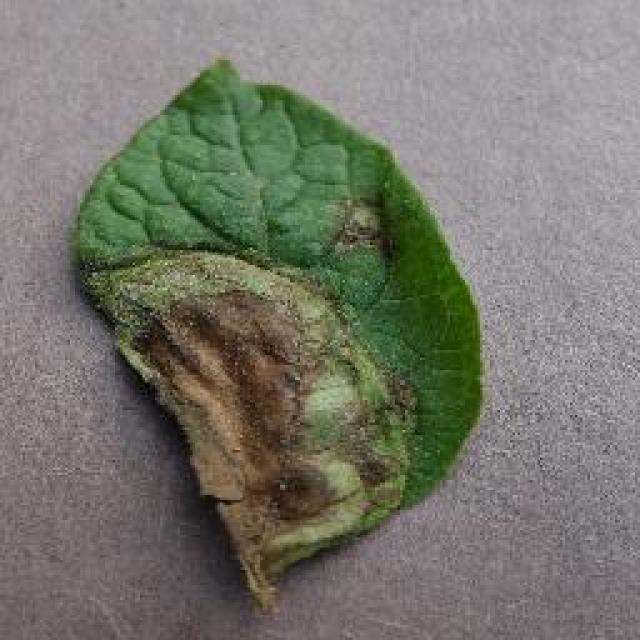late_blight: (68, 55, 488, 617)
